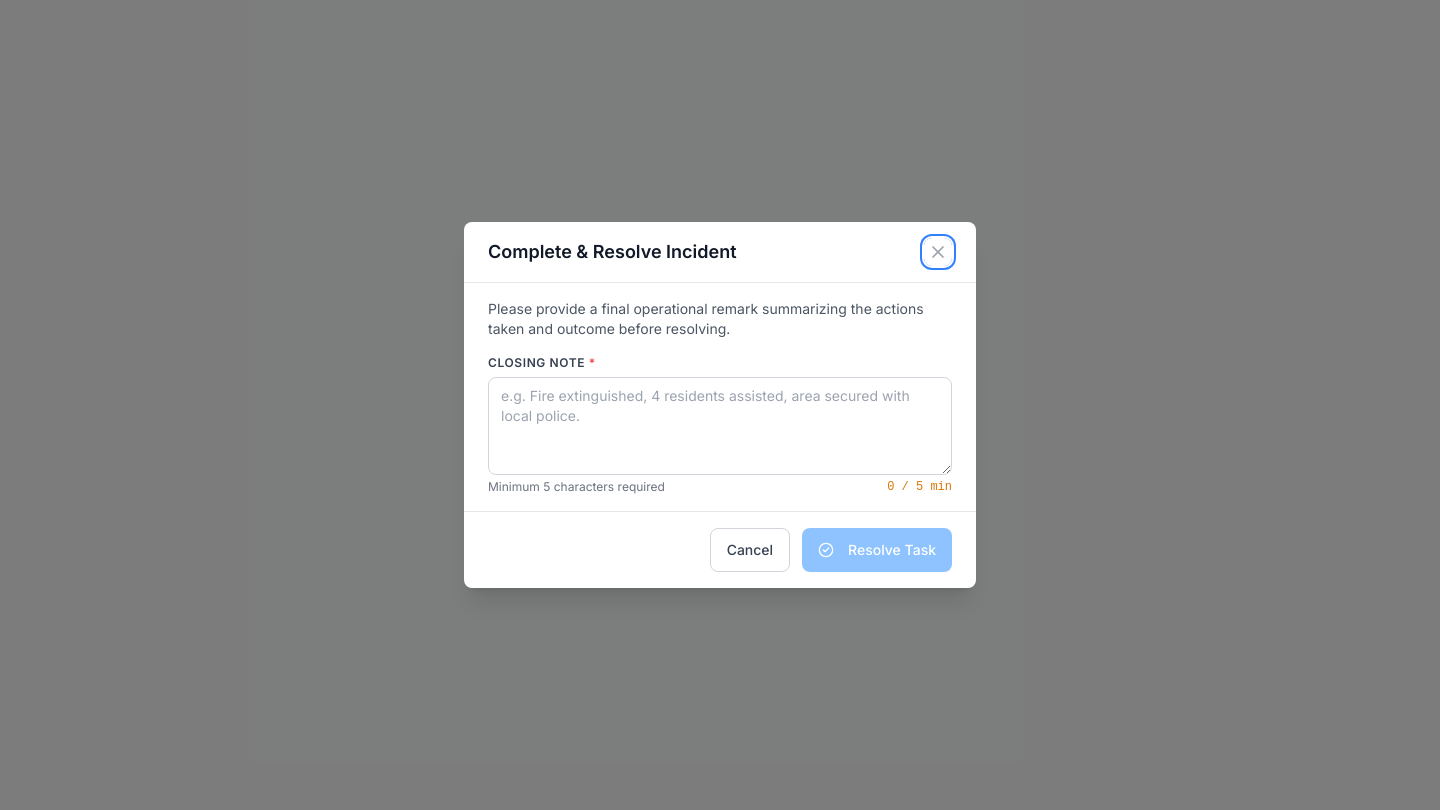
Scenario: ResolveTaskModal Validation (Closing note required >= 5 chars) › keeps Resolve button disabled when closing note has fewer than 5 characters
The width and height of the screenshot is (1440, 810).
In the text box labelled "Closing Note *": {"x": 720, "y": 426} [488,377,952,475], type "Done"
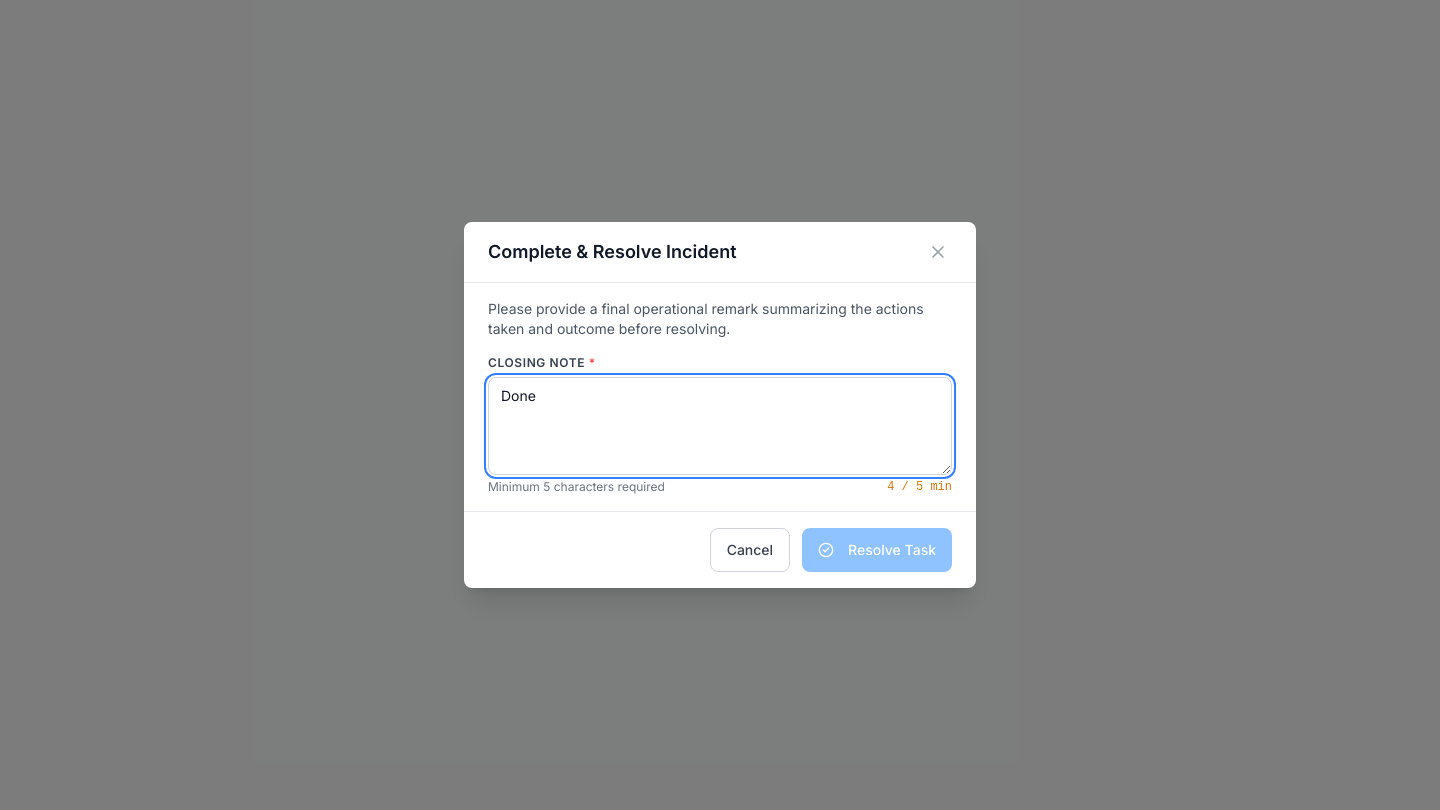
Press Tab
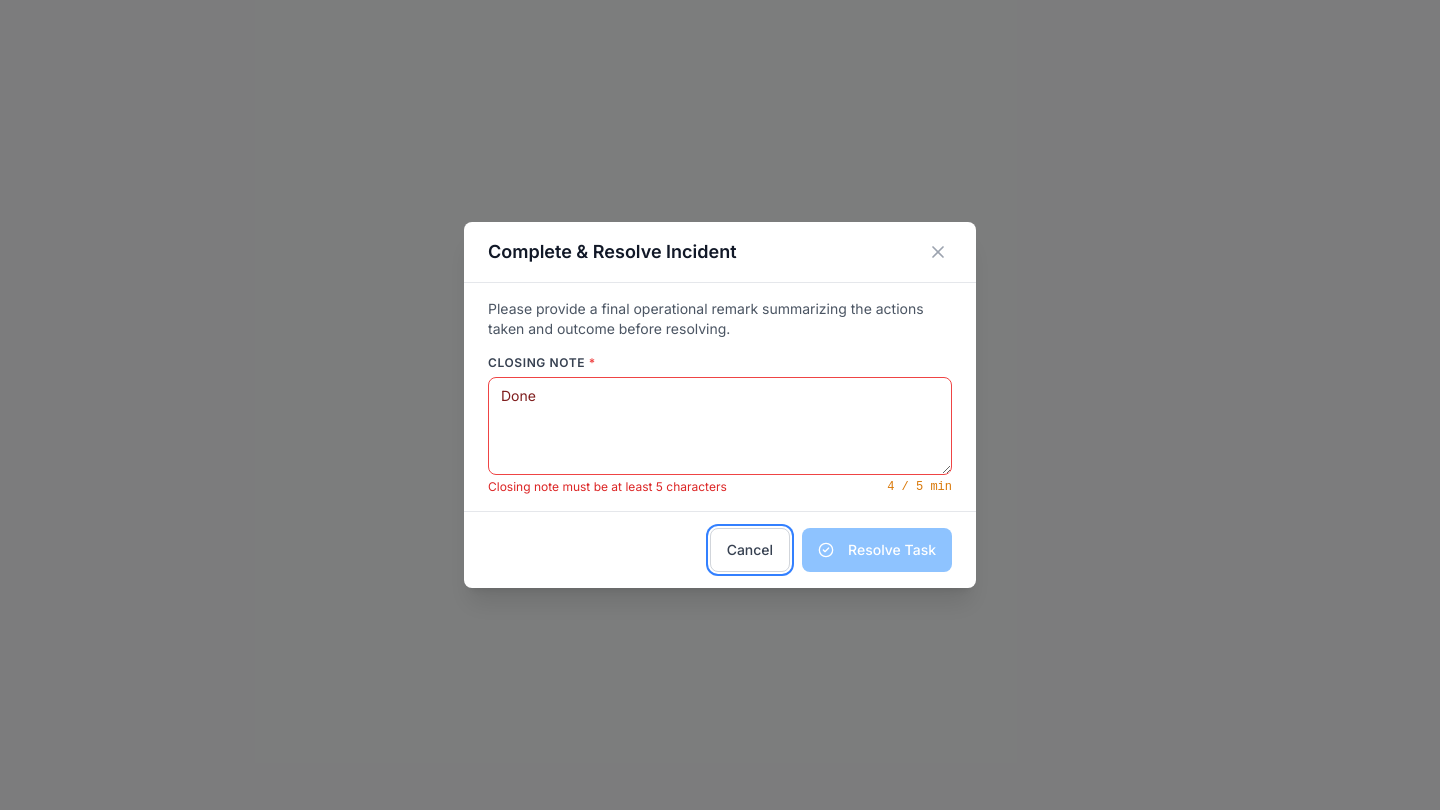
Expected: the button "Resolve Task" is disabled, [802,528,952,572]
Now the text "Closing note must be at least 5 characters" is shown, box [488,479,727,494]
